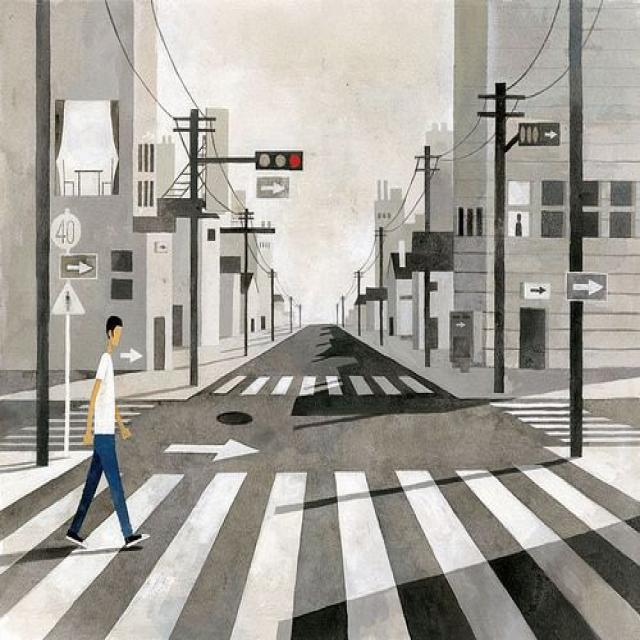Crosswalk: (0, 461, 640, 640), (486, 399, 640, 448), (203, 371, 438, 393)
